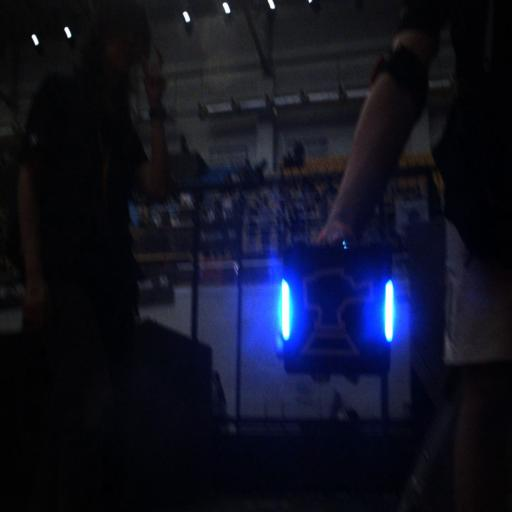target: (279, 243, 396, 376)
